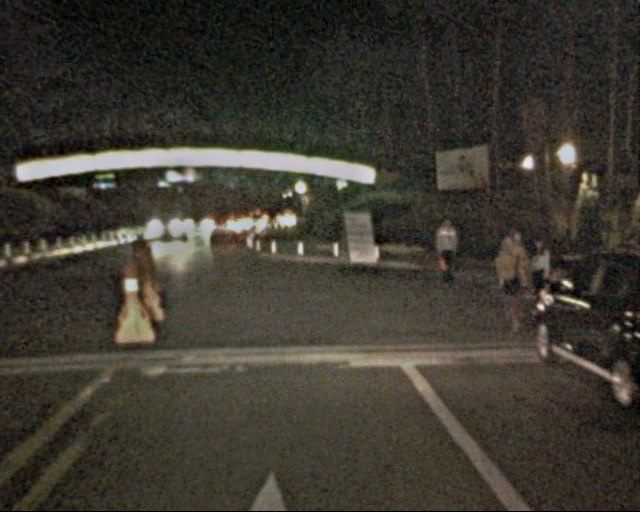person: (488, 235, 524, 323), (520, 235, 556, 323), (433, 215, 464, 286)
